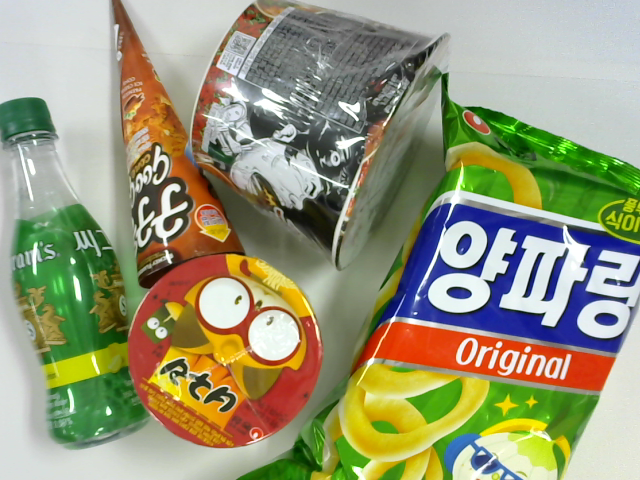GooGoo_Cone_CVS: (102, 1, 246, 290)
HeJangsock: (192, 1, 453, 265)
Oninon_Ring: (235, 74, 639, 480)
Raccoon: (127, 253, 319, 449)
Seagram_Lemon_Carbonated_Water: (1, 95, 154, 450)
